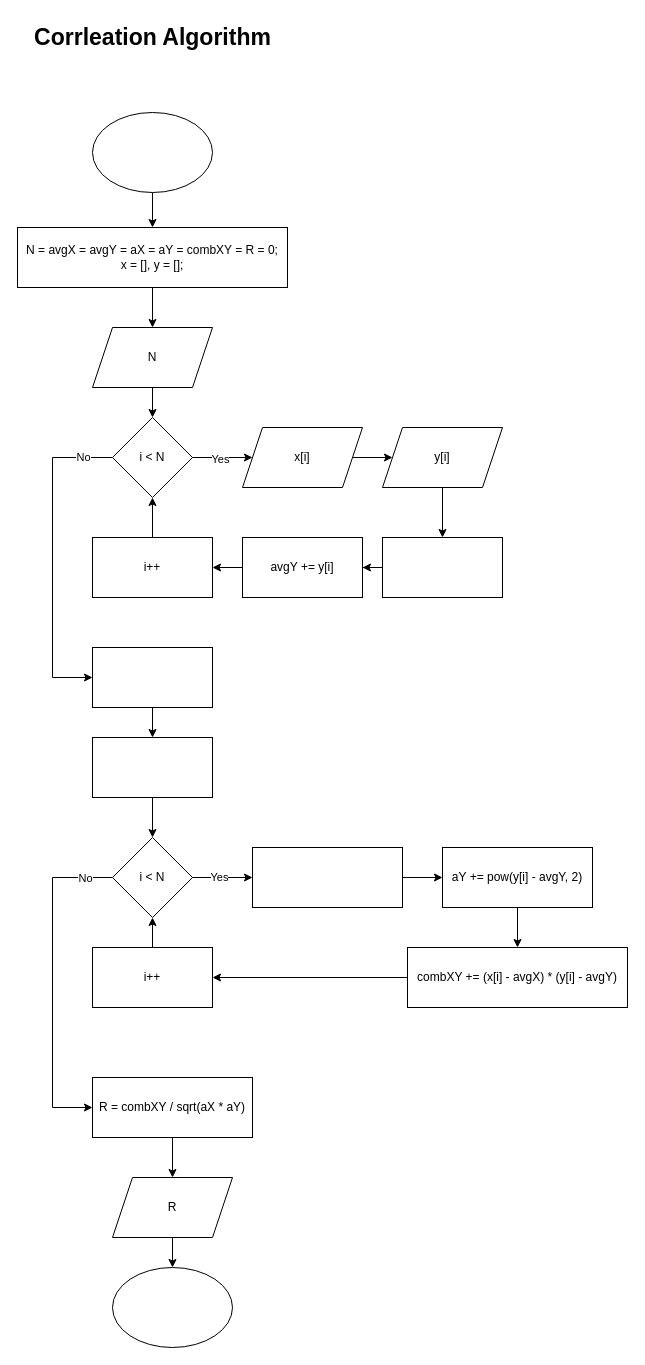
Some shapes in this 645 by 1365 pixel diagram are drawn without their labels. The centre of each missing label's shape, as x and y in pixels:
avgX += x[i]: (442,567)
avgX /= N: (152,677)
avgY /= N: (152,767)
aX += pow(x[i] - avgX, 2): (327,877)
end: (172,1307)
start: (152,152)
